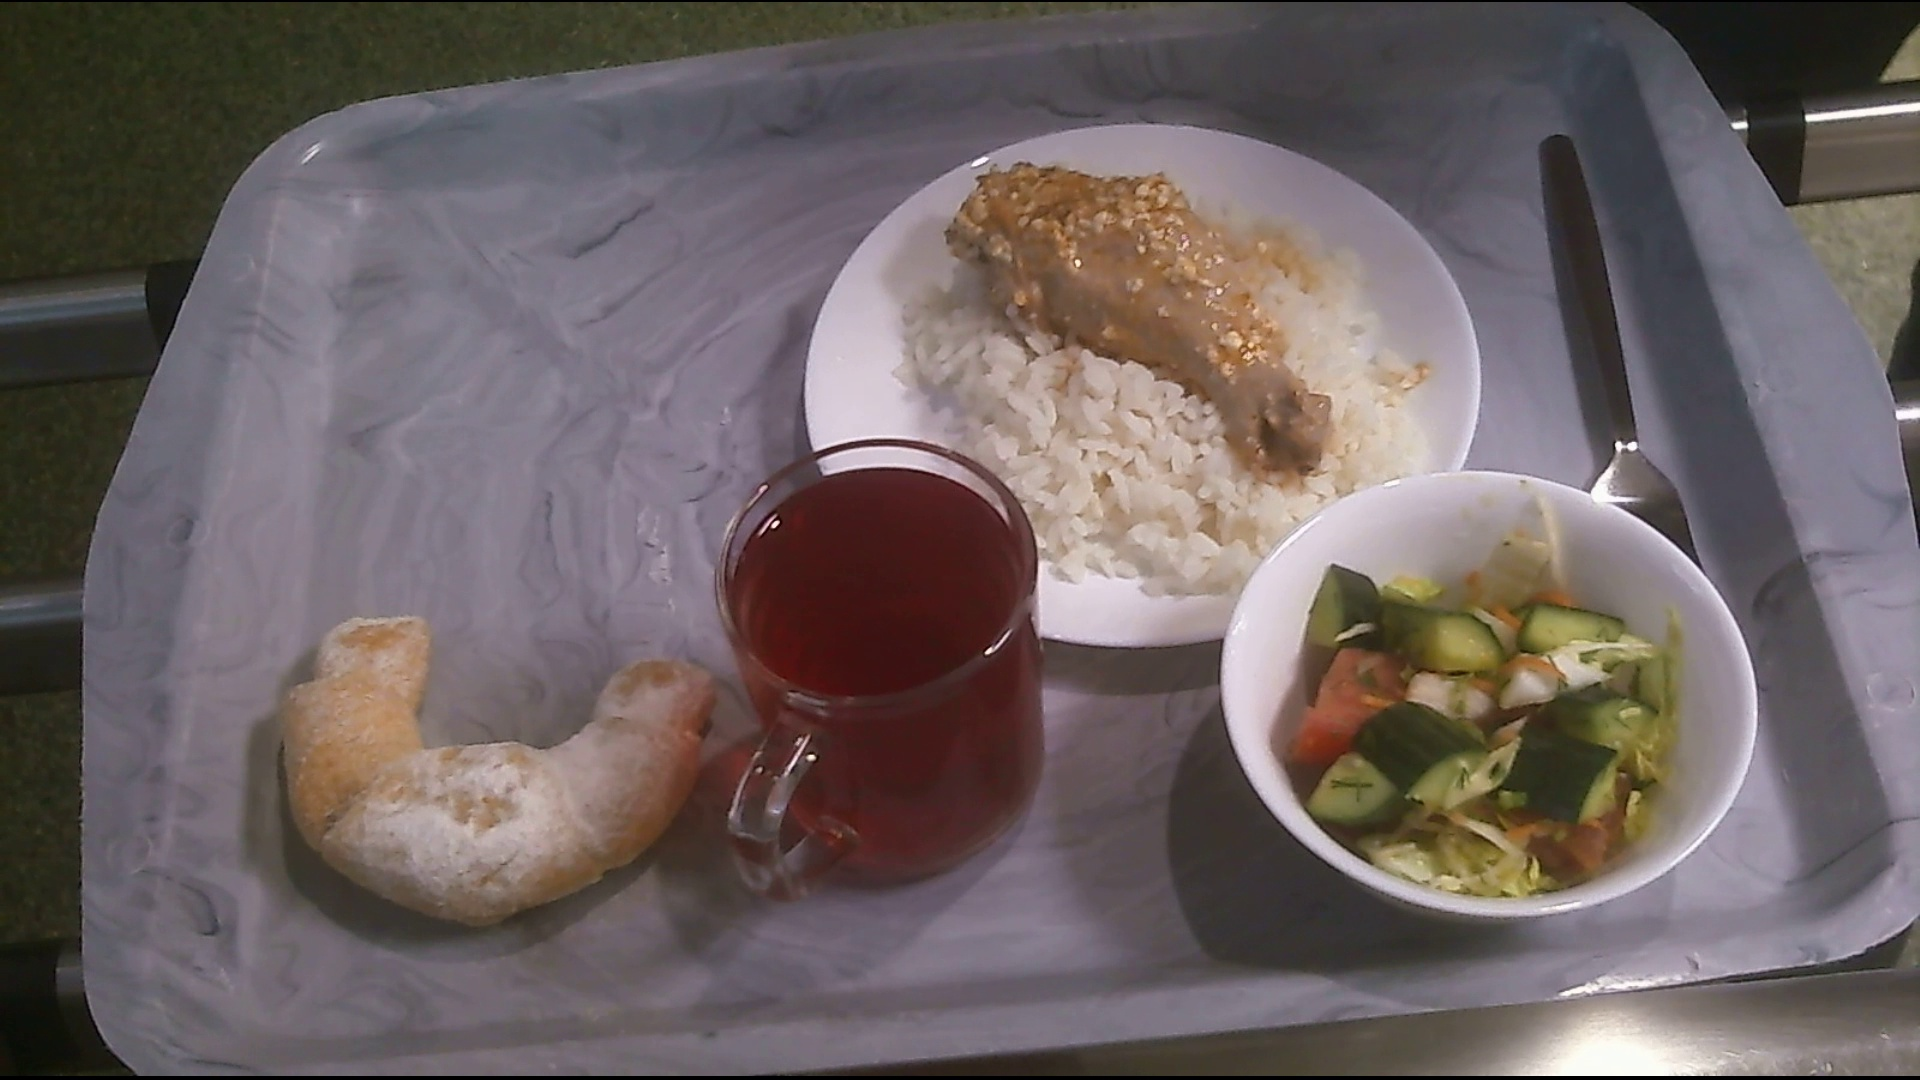bowl: (1247, 469, 1755, 920)
cutlery: (1542, 127, 1714, 564)
drink: (709, 444, 1047, 895)
other: (284, 611, 709, 922)
plate: (802, 112, 1484, 649)
